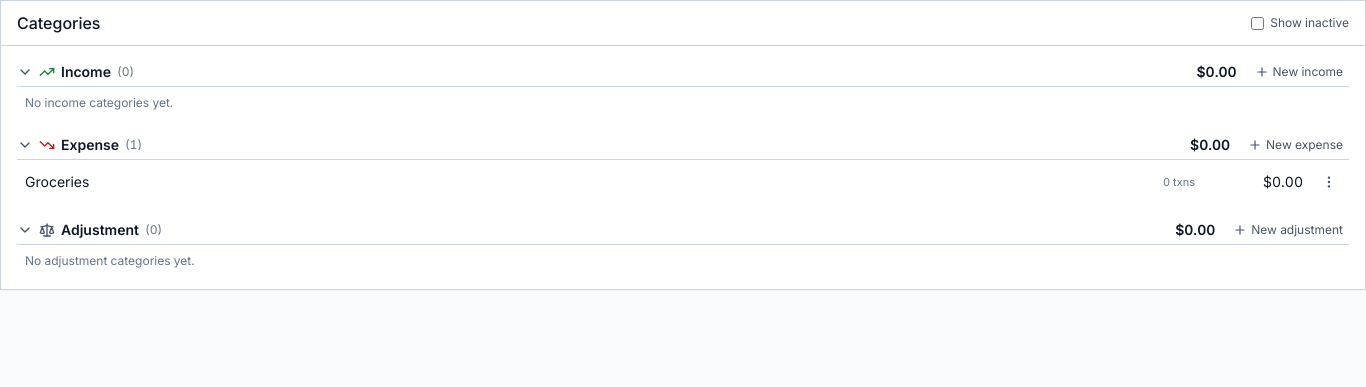
it: CategoriesPanel row actions › opens the action menu from the button
Expected: the text "Rename" is not shown
Step 1. Click the button named "Actions for Groceries" → (1329, 182), box [1315,168,1343,196]
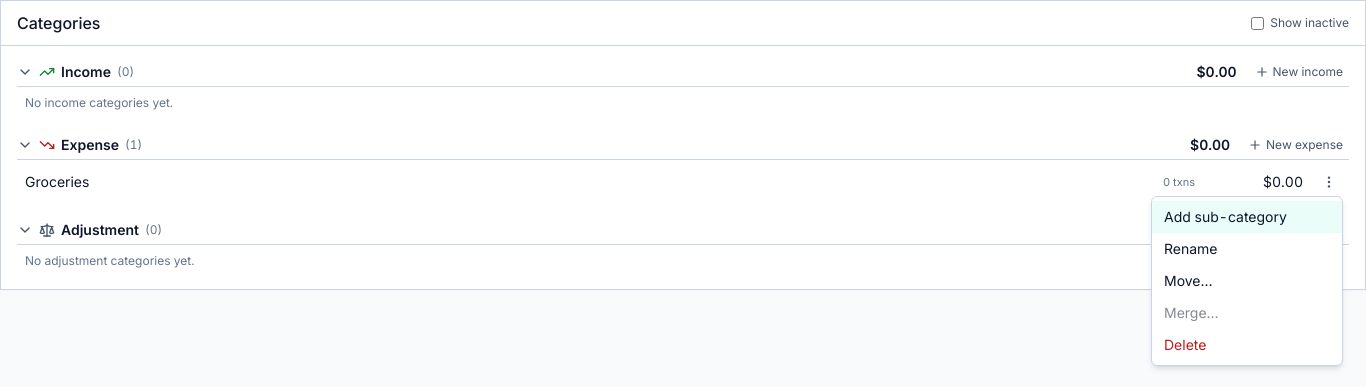
Expected: the text "Rename" is shown, [1164,239,1218,259]
Expected: the text "Add sub-category" is shown, [1164,207,1287,227]
Expected: the text "Delete" is shown, [1164,335,1206,355]
